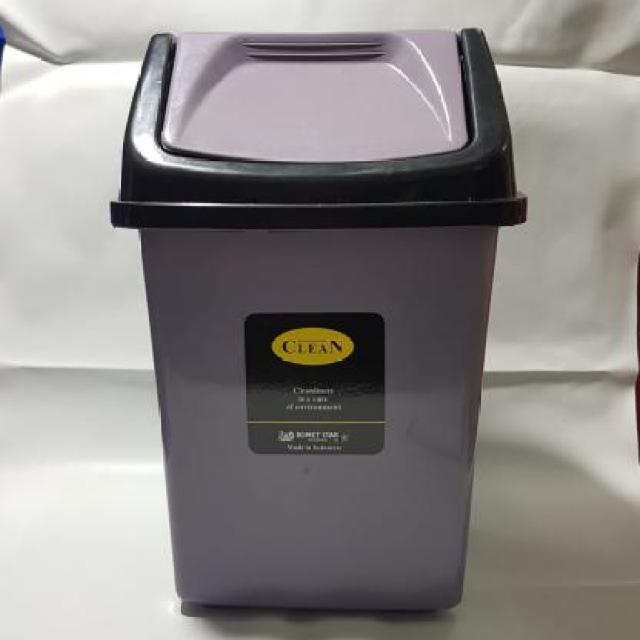garbage container: (106, 21, 537, 640)
